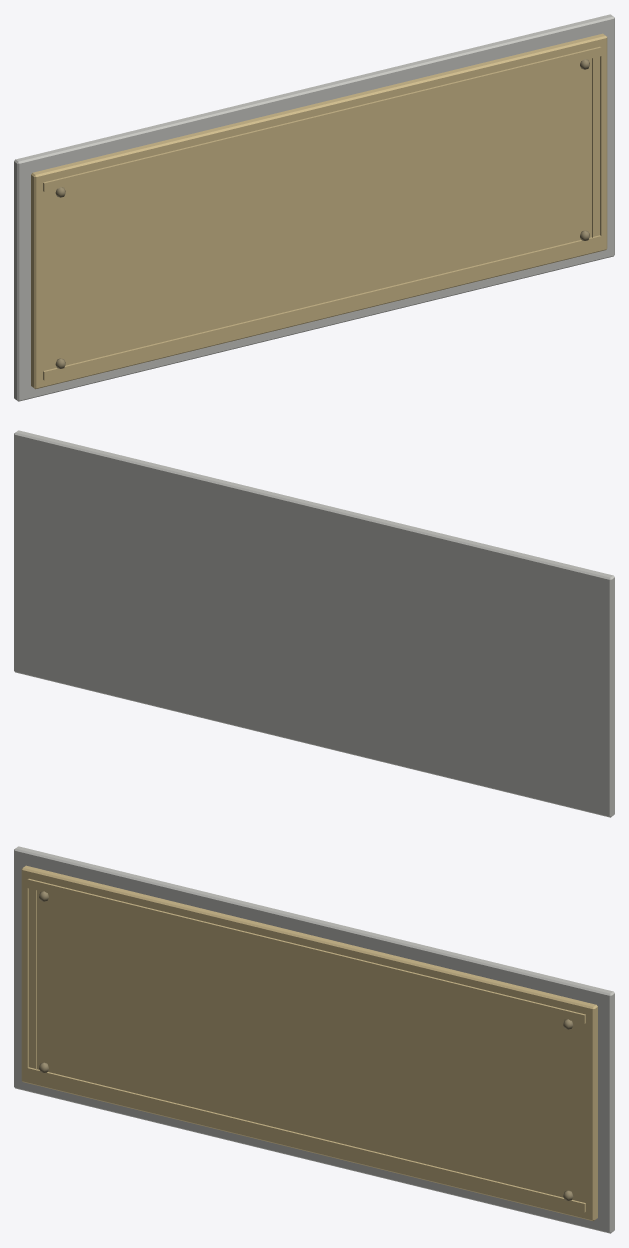
Rendered from memorial_plaque.glb.
3 renders of one model, top to bottom at view 1: azimuth 30°, elevation 25°; view 2: azimuth 150°, elevation 25°; view 3: azimuth 330°, elevation 25°, orthographic.
Parts seen in each view (by area): view 1: memorial_plaque; view 2: memorial_plaque; view 3: memorial_plaque.
Boxes of the visible parts, x1,y1,x2,y2 form: memorial_plaque: [14, 14, 614, 401]; memorial_plaque: [14, 430, 614, 817]; memorial_plaque: [14, 846, 614, 1233].
Bounding box in the file's own units: 1.46 × 0.56 × 0.0555.
